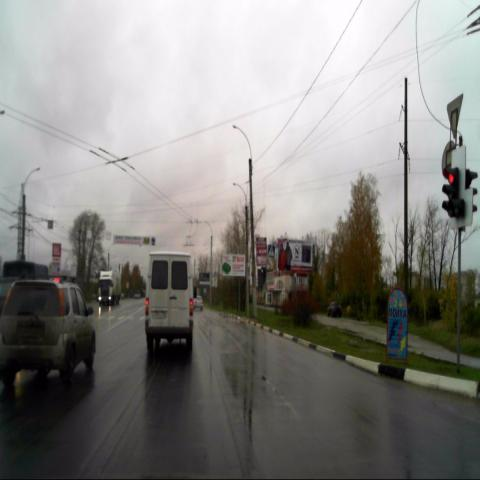5_19_1: (267, 244, 275, 258)
